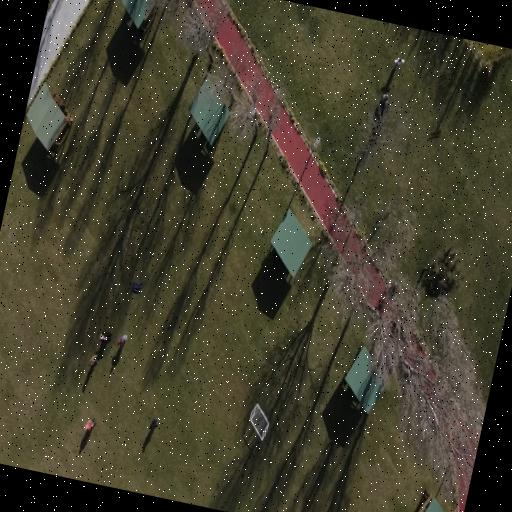person: (85, 419, 95, 431), (100, 332, 112, 342), (89, 355, 98, 366), (118, 335, 127, 346), (150, 418, 158, 430)
